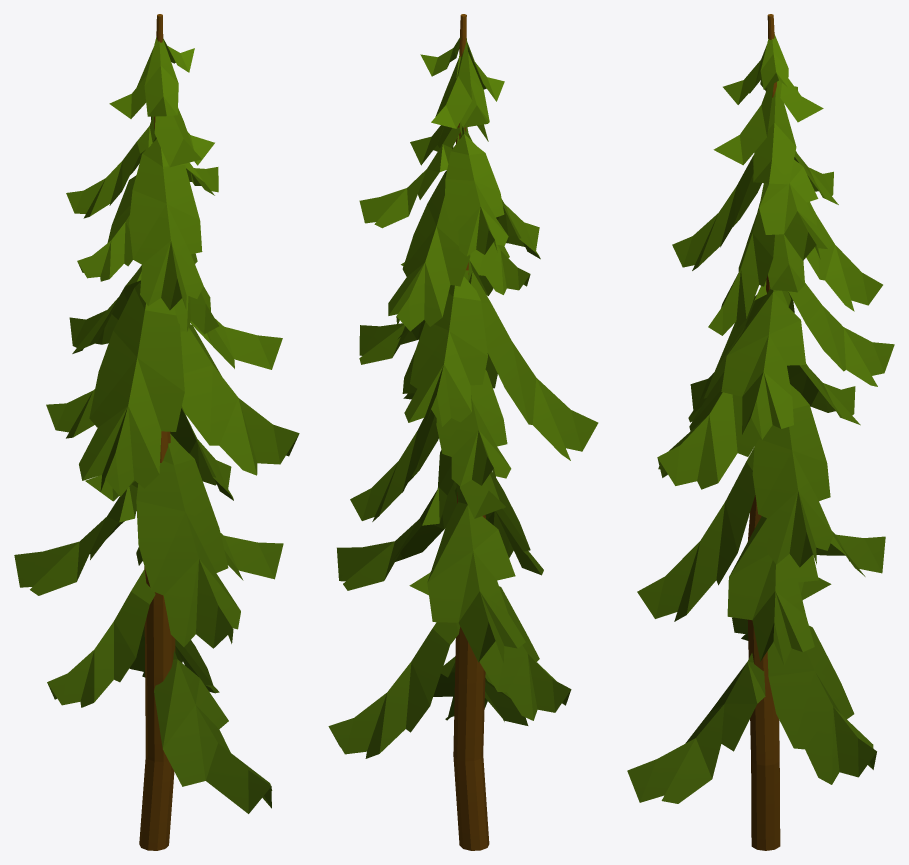
File: tree_level_4.glb
3 views of the same model, side by side, from view 1: azimuth 30°, elevation 25°; view 2: azimuth 150°, elevation 25°; view 3: azimuth 270°, elevation 25° (orthographic).
Parts seen in each view (by area): view 1: tree_level_4; view 2: tree_level_4; view 3: tree_level_4.
Part boxes in pixels (x1,y1,x2,y2): tree_level_4: [14, 14, 299, 850]; tree_level_4: [328, 14, 598, 850]; tree_level_4: [627, 14, 894, 850].
Size of the model in its own units: 2.03 by 6.81 by 1.98.
1 material, 1 textured.
